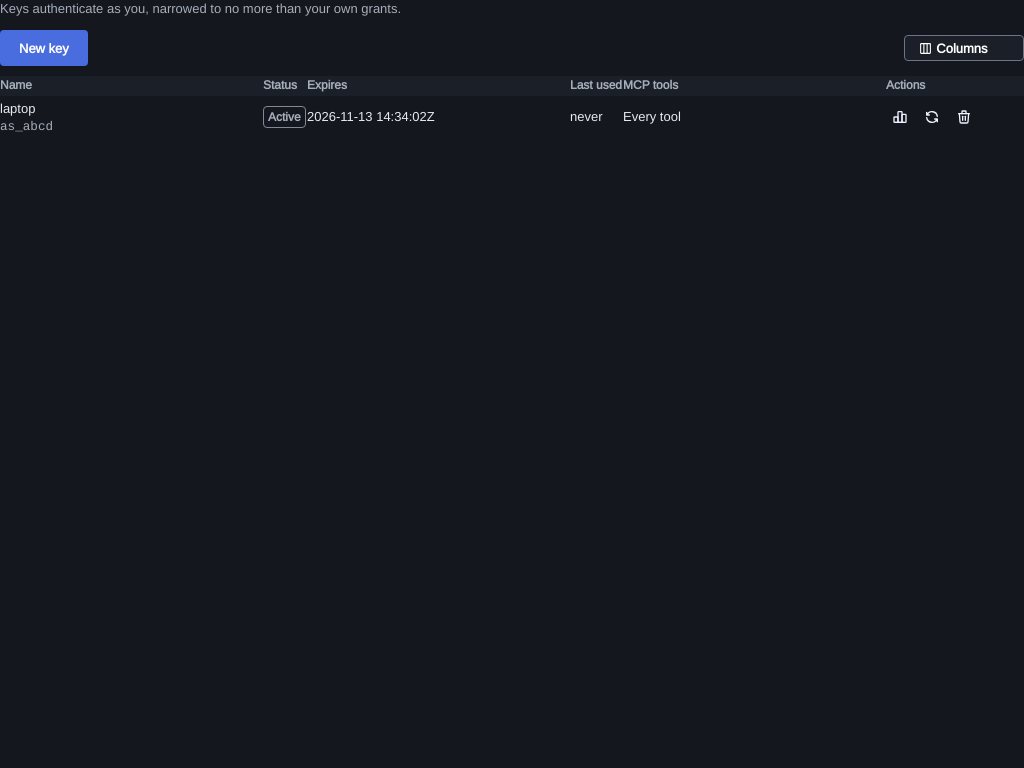
Test case: ApiKeysPanel › rotates a key and says until when the old secret works
Click the button named "Rotate laptop": (932, 117) x1=918 y1=103 x2=946 y2=131
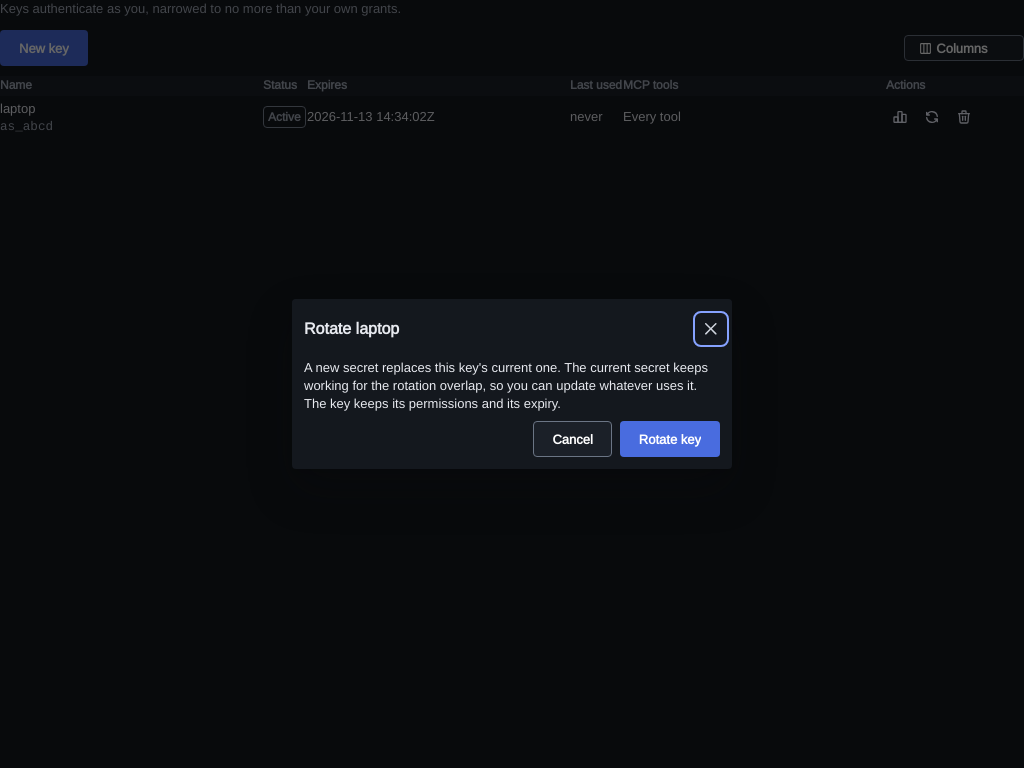
Click the button "Rotate key": (670, 439) x1=620 y1=421 x2=720 y2=457
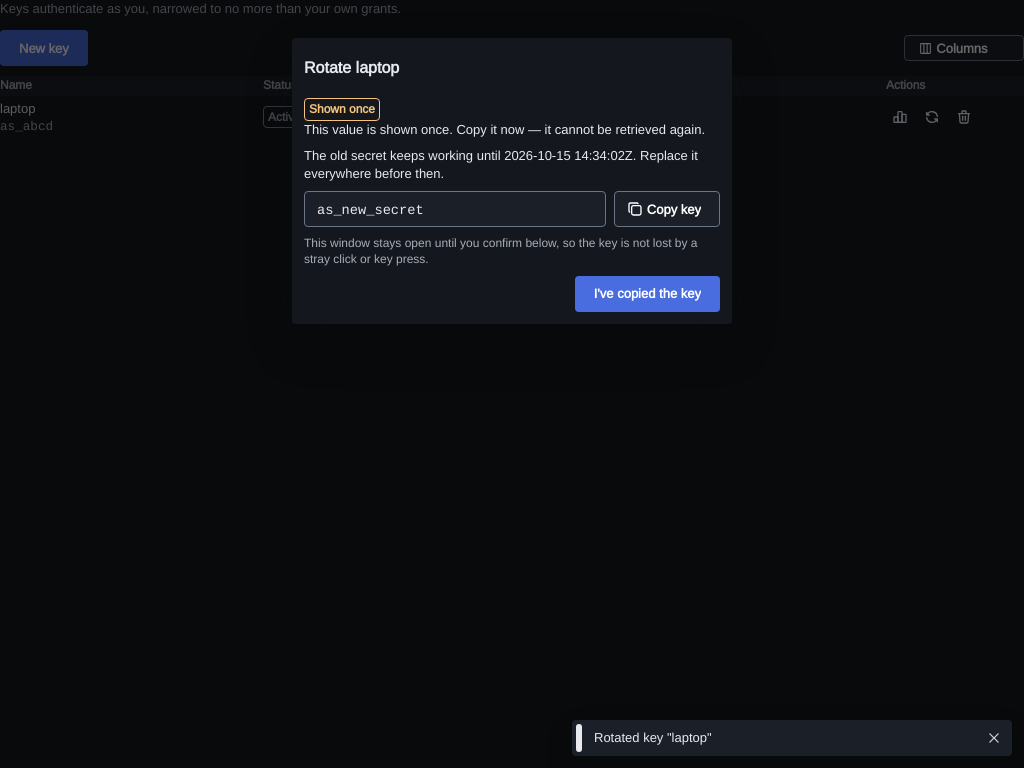
Now the field showing "as_new_secret" is shown, box x1=304 y1=191 x2=606 y2=227
Now the text "The old secret keeps working until" is shown, box x1=304 y1=147 x2=698 y2=182
